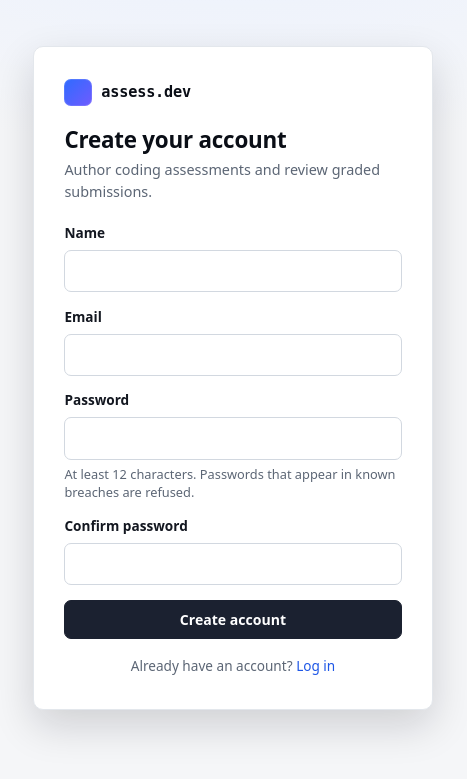
Test case: RegisterPage › refuses a mismatched confirmation without creating the account
This screenshot has width=467, height=779.
Type "Ada" into the field labelled "Name" at (233,271), box [64,250,402,292]
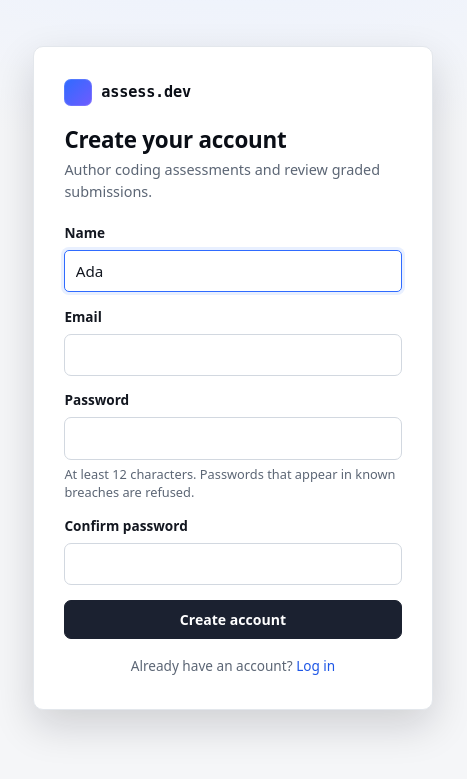
Type "a@b.com" into the field labelled "Email" at (233,355), box [64,334,402,376]
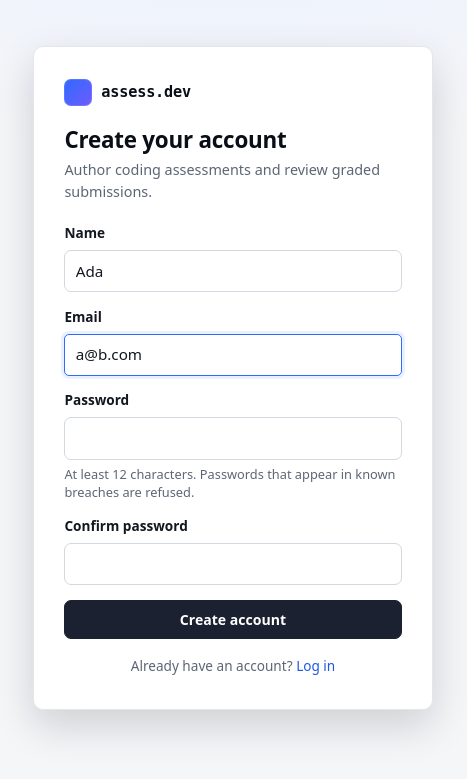
Type "correct-horse-battery" into the password field labelled "Password" at (233,438), box [64,417,402,460]
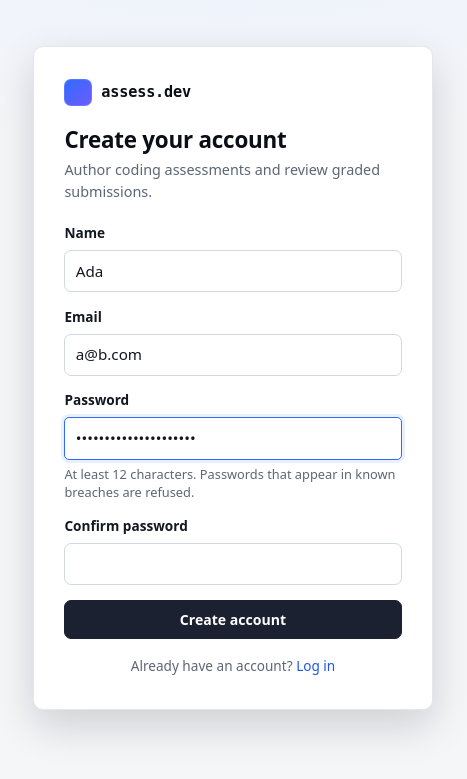
Type "correct-horse-bettery" into the password field labelled "Confirm password" at (233,564), box [64,543,402,585]
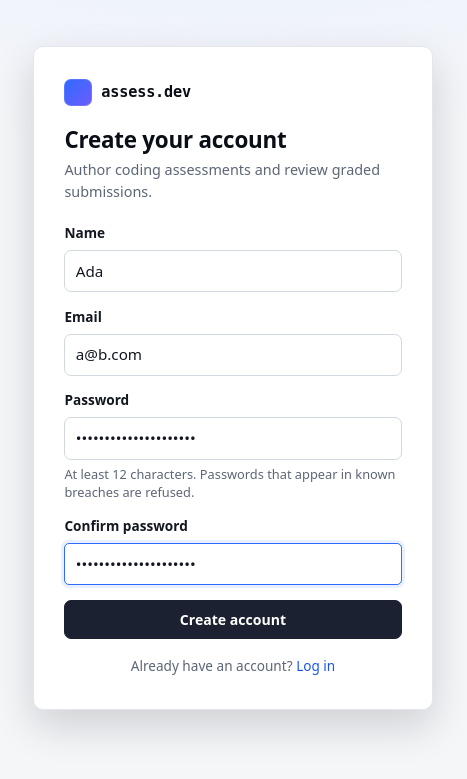
Click the button "Create account" at (233,619), box [64,600,402,639]
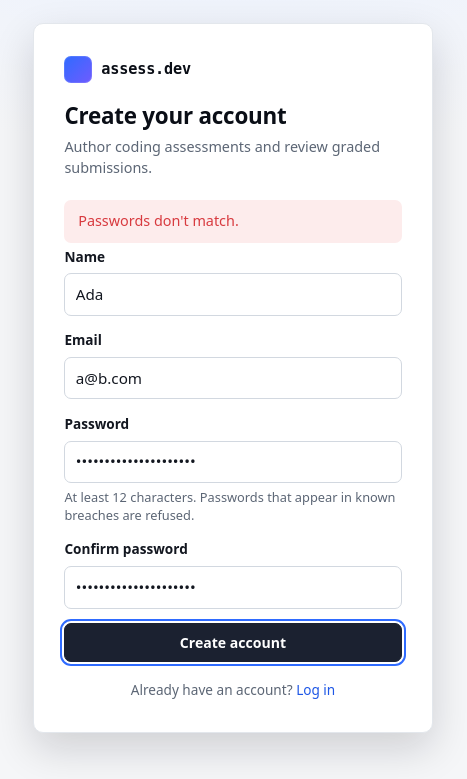
Expected: the message reads "Passwords don't match.", [78,211,239,230]
